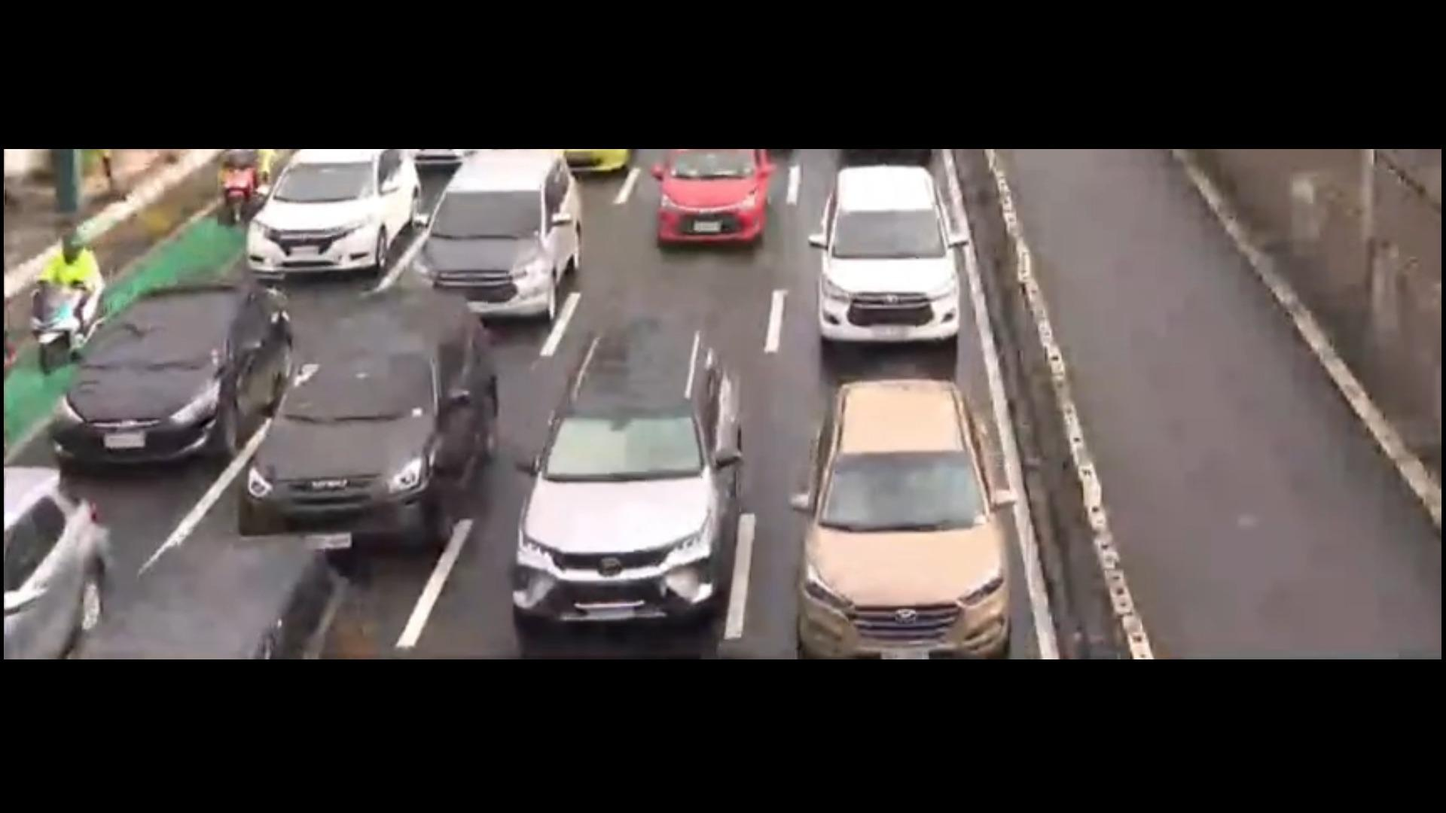Motorcycle: (3, 234, 125, 380), (209, 149, 269, 236)
SUV: (497, 313, 776, 645), (226, 279, 512, 557), (768, 381, 1028, 658), (799, 157, 981, 362), (420, 136, 595, 339), (238, 154, 402, 283)
